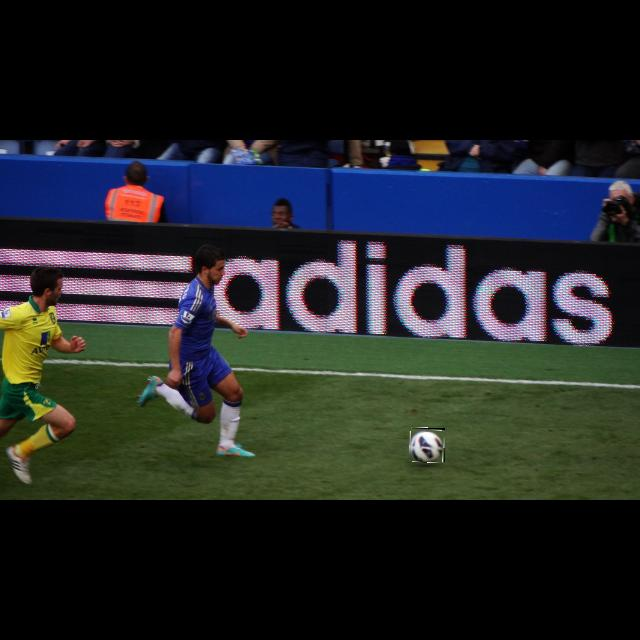Football: (409, 428, 445, 462)
